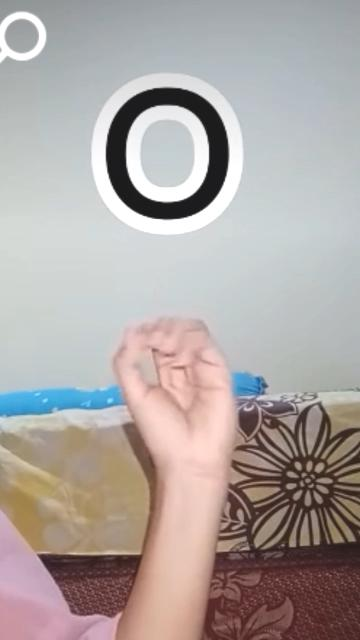O: (109, 306, 245, 480)
